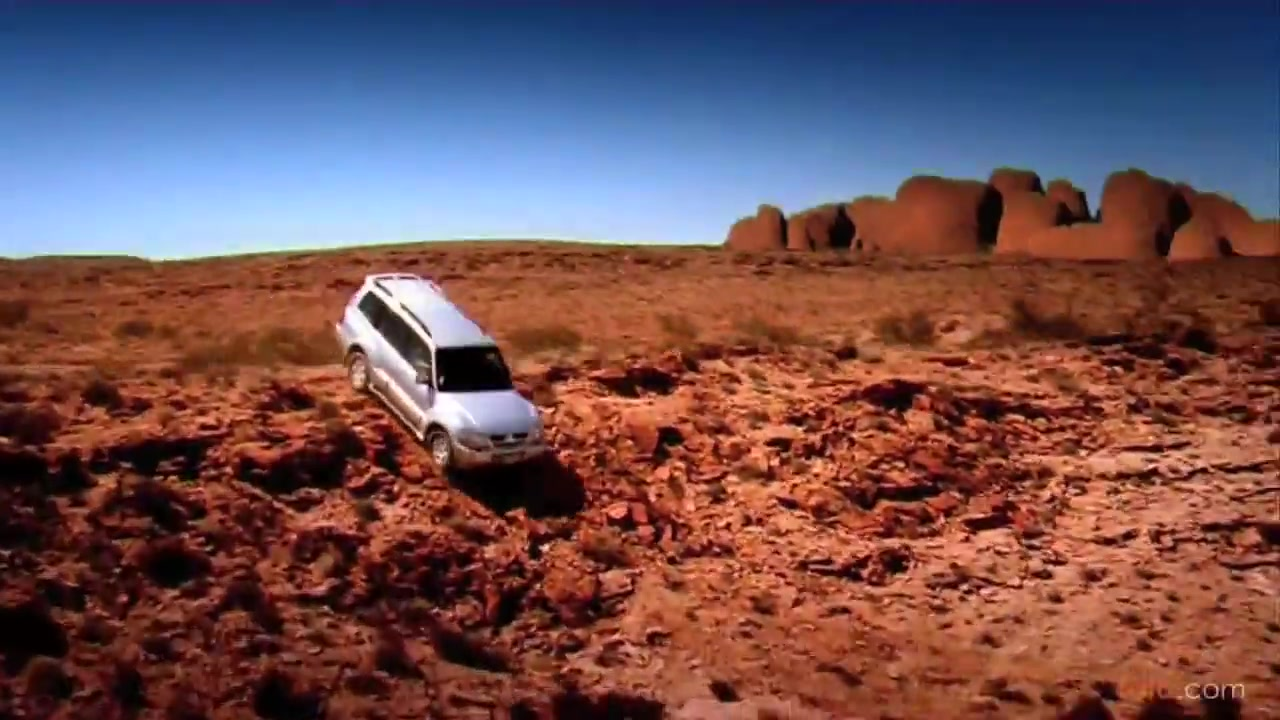car: (341, 273, 550, 479)
